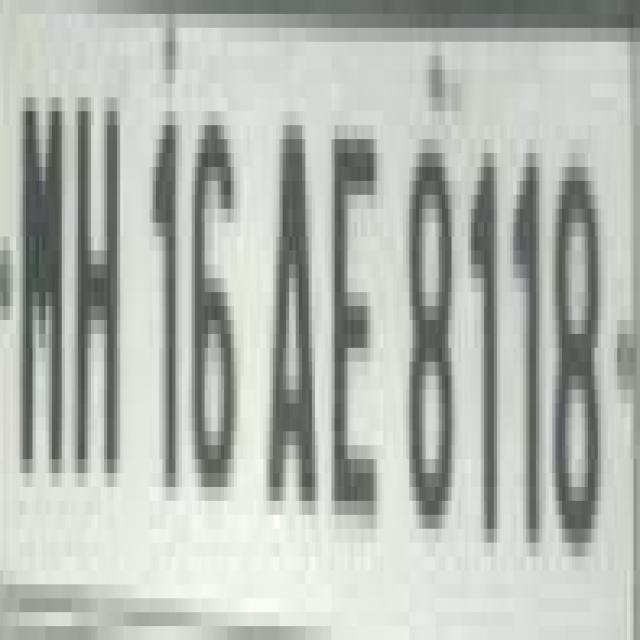license_plate: (29, 0, 637, 640)
